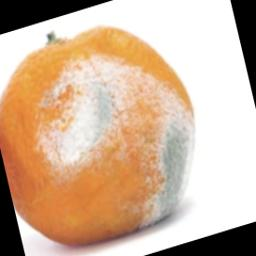Orange Rotten: (0, 0, 190, 250)
